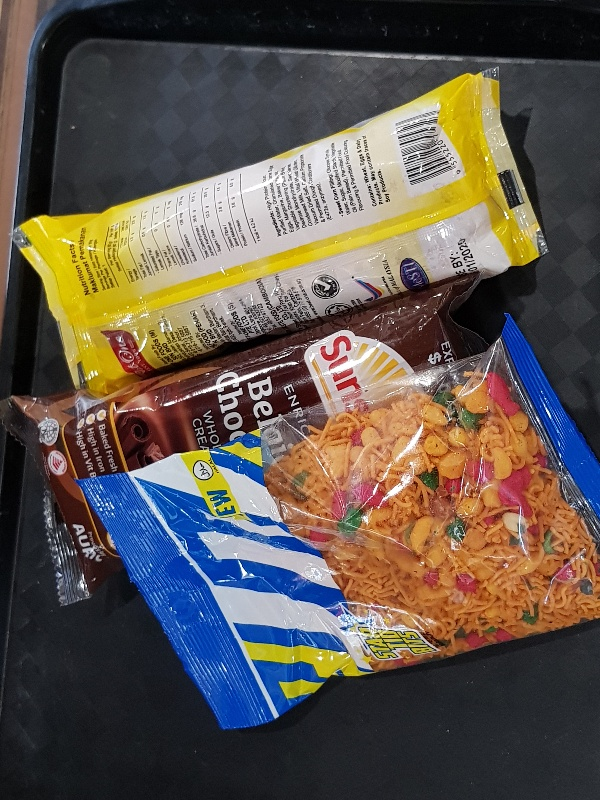Star Tidbits Mixer: (78, 317, 600, 732)
Sunshine Belgium Chocolate Wholemeal Cream Bun: (6, 269, 478, 607)
Tinges Roll Sweet Corn: (10, 66, 548, 392)
